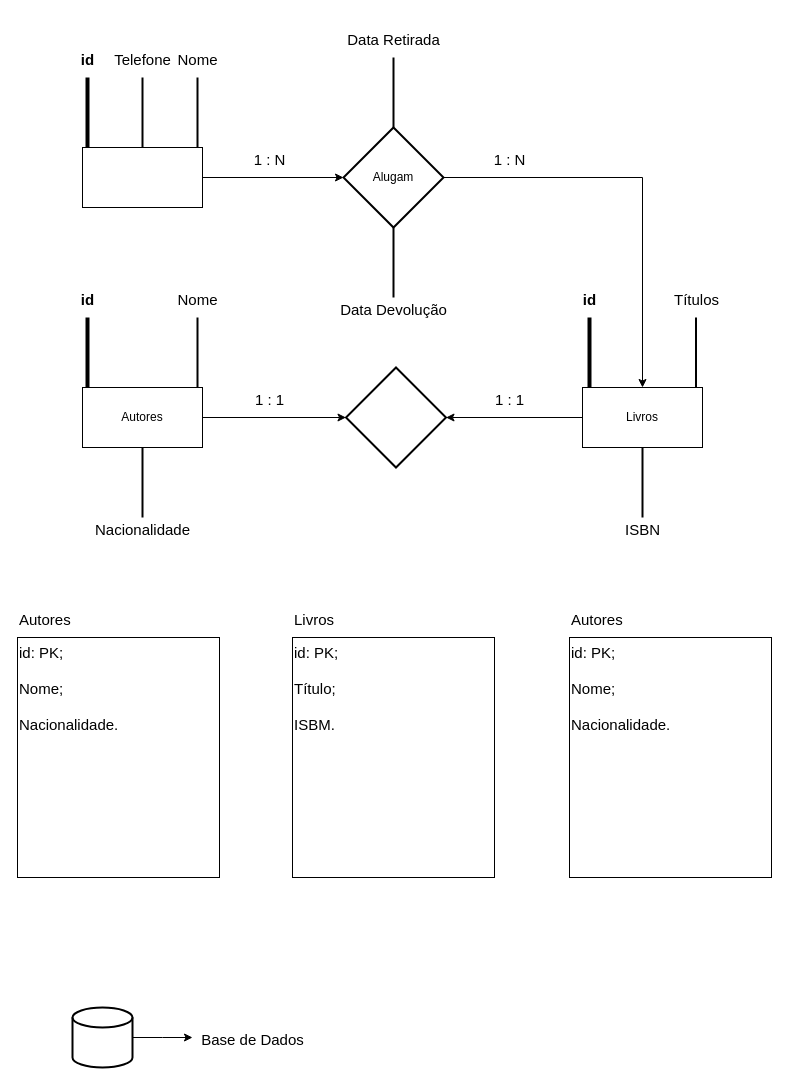
Image size: 789x1085. Some labels were removed from this diagram. Each missing label, with the centre of its shape:
Escrevem/ Escritos: pixel 395 417
Usuários: pixel 142 177
